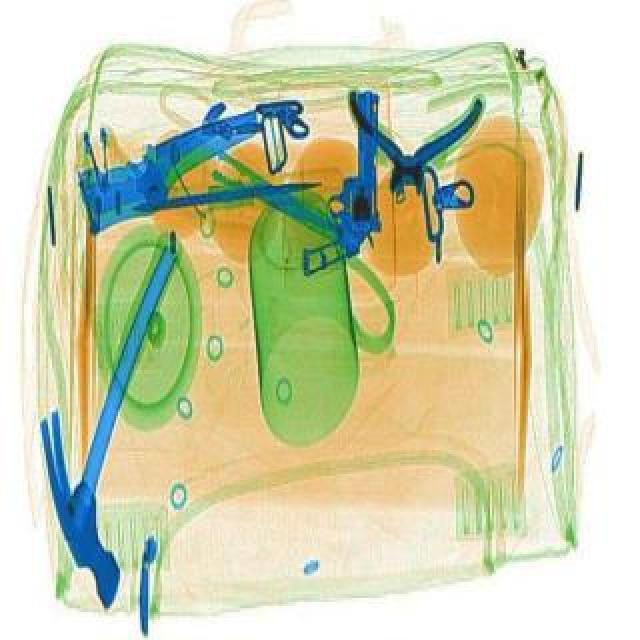gun: (302, 94, 378, 278)
wrench: (346, 98, 480, 202)
